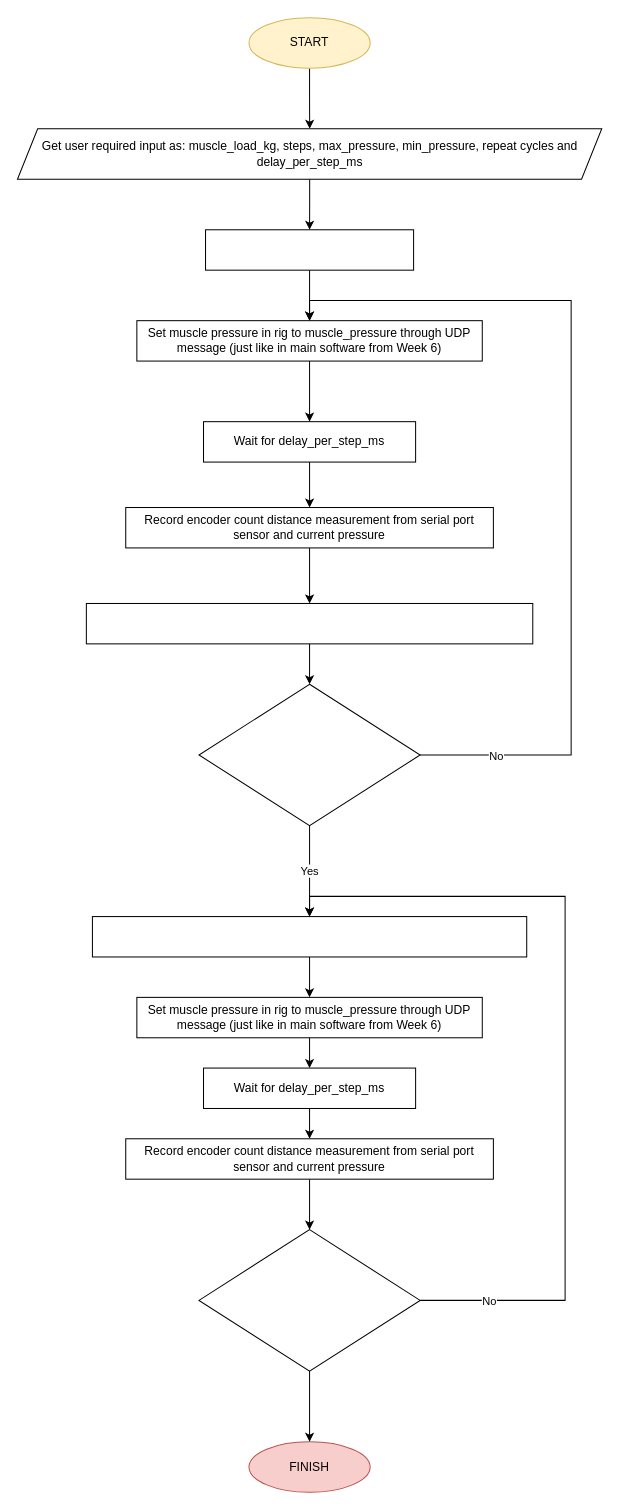
The diagram is 620 pixels wide and 1510 high, and some of its shapes have lost their labels. The shapes that lost their labels are listed below. From the top down, each one's centre as x and y in pixels, then its label:
At pixel 309 249: "muscle_pressure = min_pressure".
At pixel 309 623: "muscle_pressure = muscle_pressure + (max_pressure-min_pressure)/steps".
At pixel 309 754: "Is muscle_pressure >= max_pressure?".
At pixel 309 936: "muscle_pressure = muscle_pressure - (max_pressure-min_pressure)/steps".
At pixel 309 1300: "Is current_pressure <= min_pressure?".
